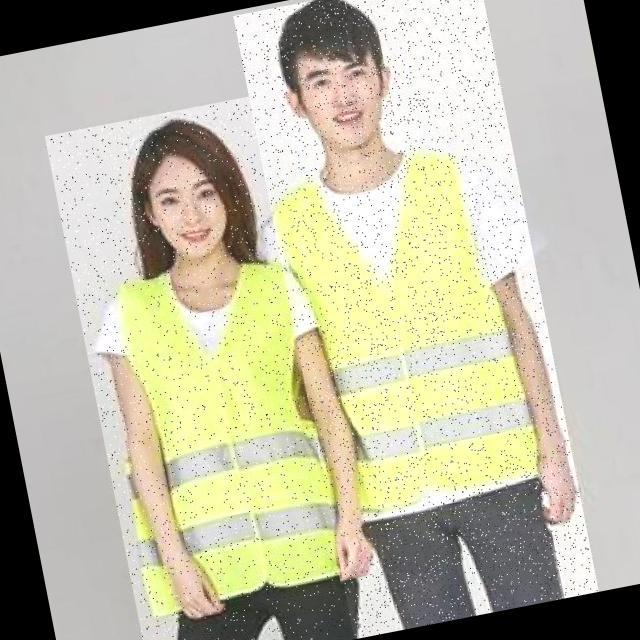Human: (233, 0, 600, 639), (45, 89, 393, 640)
Safety Vest: (272, 132, 551, 529), (86, 245, 368, 616)
